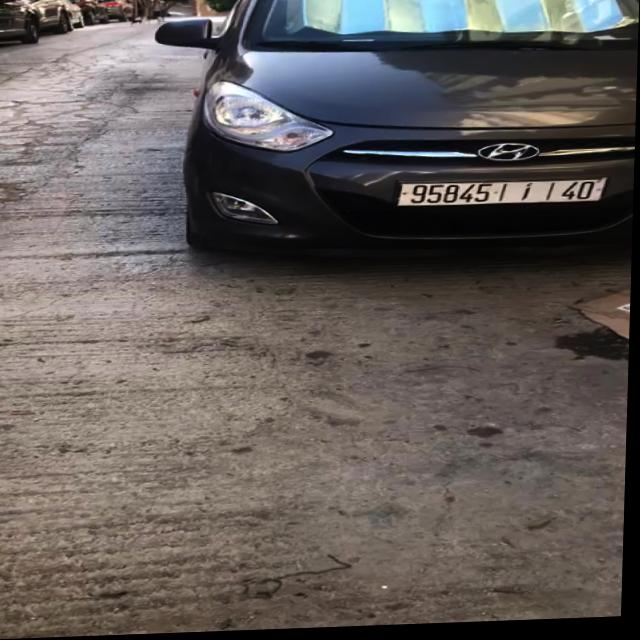License-Plate: (400, 182, 608, 209)
